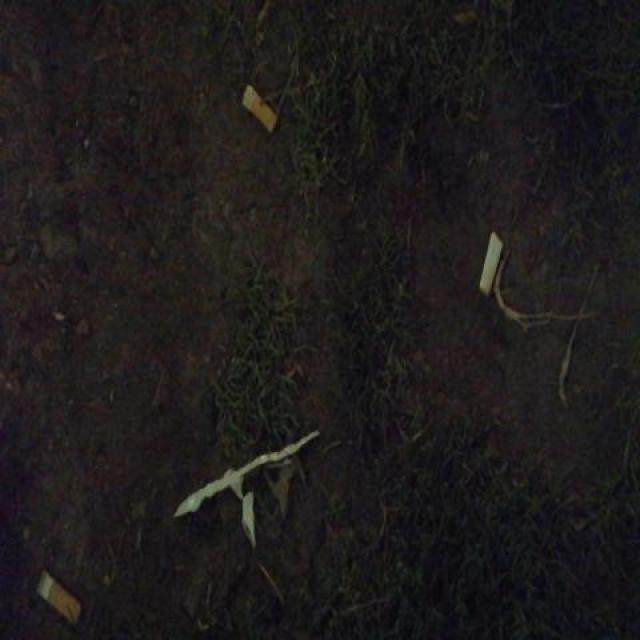non-organic waste: (32, 564, 87, 632), (238, 80, 282, 137), (476, 226, 504, 298)
